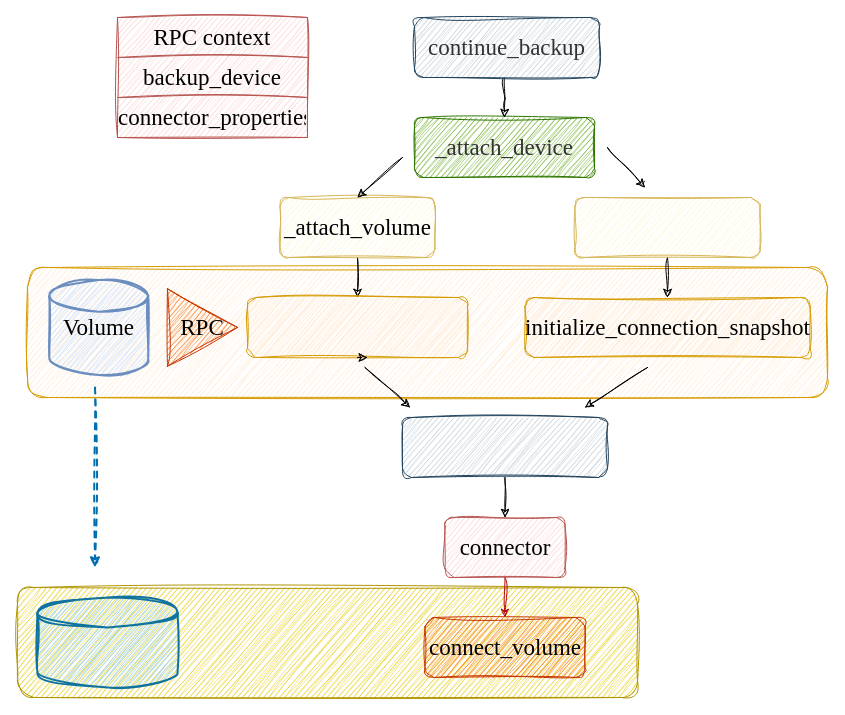
This 845x715 diagram has some shape labels left out. Here are the shapes that lost their labels. From the top down, the box of each, then its label:
(574, 196, 760, 258): _attach_snapshot
(246, 296, 468, 358): initialize_connection
(402, 416, 608, 478): _connect_device
(36, 596, 178, 688): backup.host
